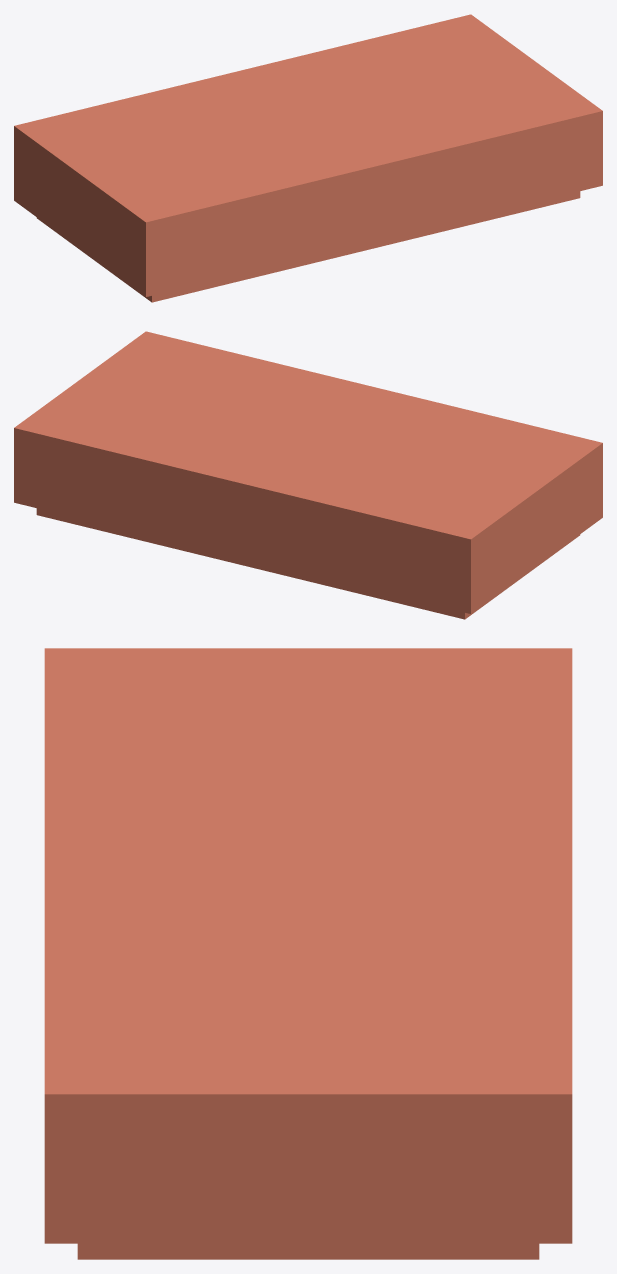
File: 1x2 flat.fbx
3 views of the same model, one above another, from view 1: azimuth 30°, elevation 25°; view 2: azimuth 150°, elevation 25°; view 3: azimuth 270°, elevation 25° (orthographic). The views are drawn at different scales.
Parts seen in each view (by area): view 1: [pivoted]; view 2: [pivoted]; view 3: [pivoted].
Part boxes in pixels (x1,y1,x2,y2): [pivoted]: (14, 14, 602, 302); [pivoted]: (14, 331, 602, 619); [pivoted]: (44, 648, 572, 1259).
Bounding box in the file's own units: 1.6 × 0.3 × 0.8.
